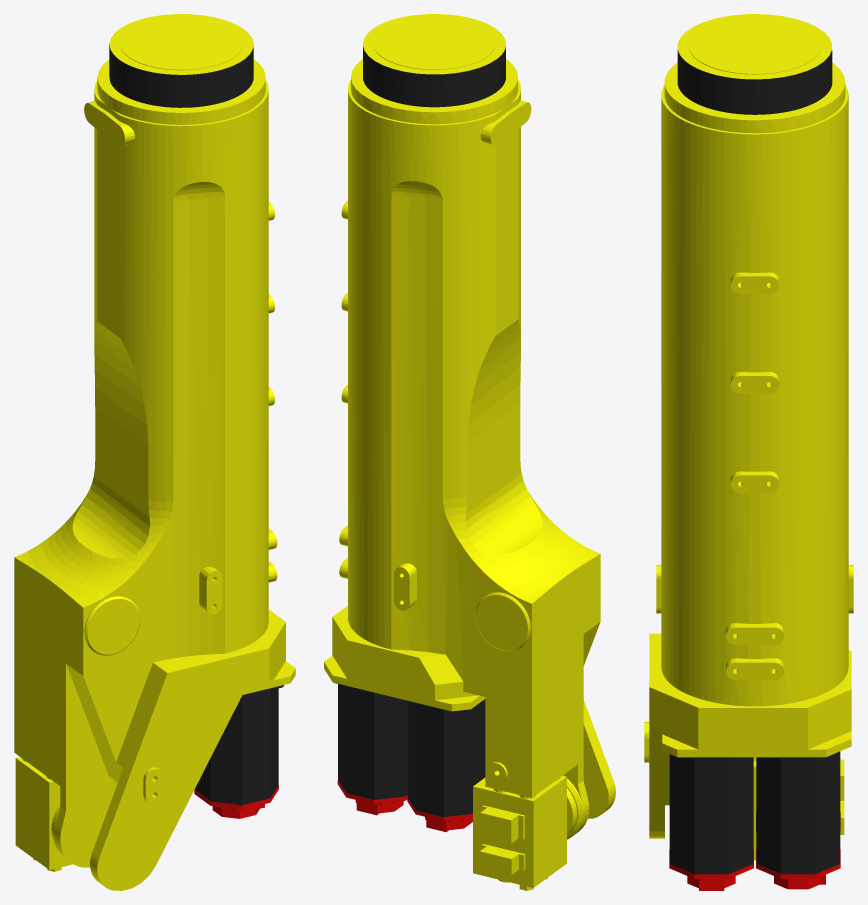
3 views of the same model, side by side, from view 1: azimuth 30°, elevation 25°; view 2: azimuth 150°, elevation 25°; view 3: azimuth 270°, elevation 25° (orthographic). The views are drawn at different scales.
Visible parts, largest first — view 1: node; view 2: node; view 3: node.
Part boxes in pixels (x1=…): node: x1=14, y1=14, x2=295, y2=890; node: x1=324, y1=14, x2=615, y2=890; node: x1=644, y1=14, x2=853, y2=890.
Bounding box in the file's own units: 424 × 1474 × 324.
